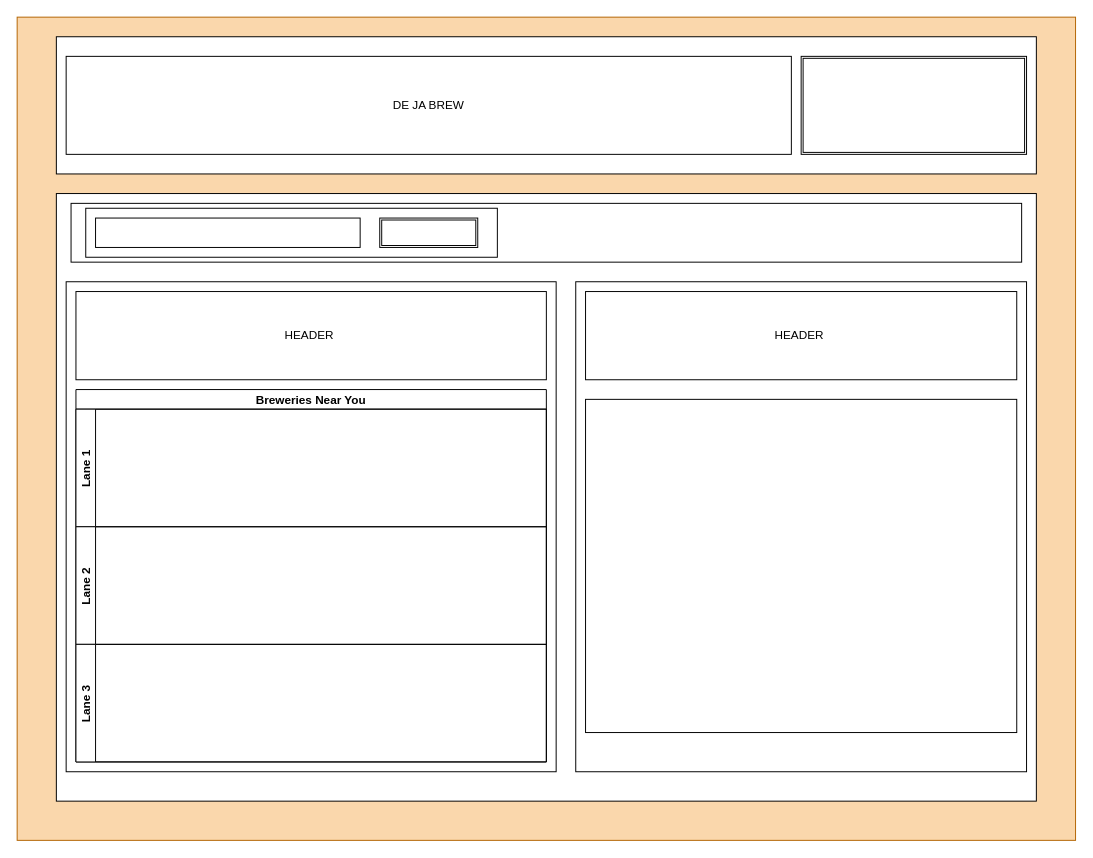
The diagram is 1093 pixels wide and 858 high, and some of its shapes have lost their labels. The centre of each missing label's shape, as x and y in pixels:
"<ZIP, CITY HERE, BEER NAME>" belongs at (227,232).
"IMG" belongs at (913,104).
"PUSHPIN MAP" belongs at (801,565).
"SEARCH" belongs at (428,232).
